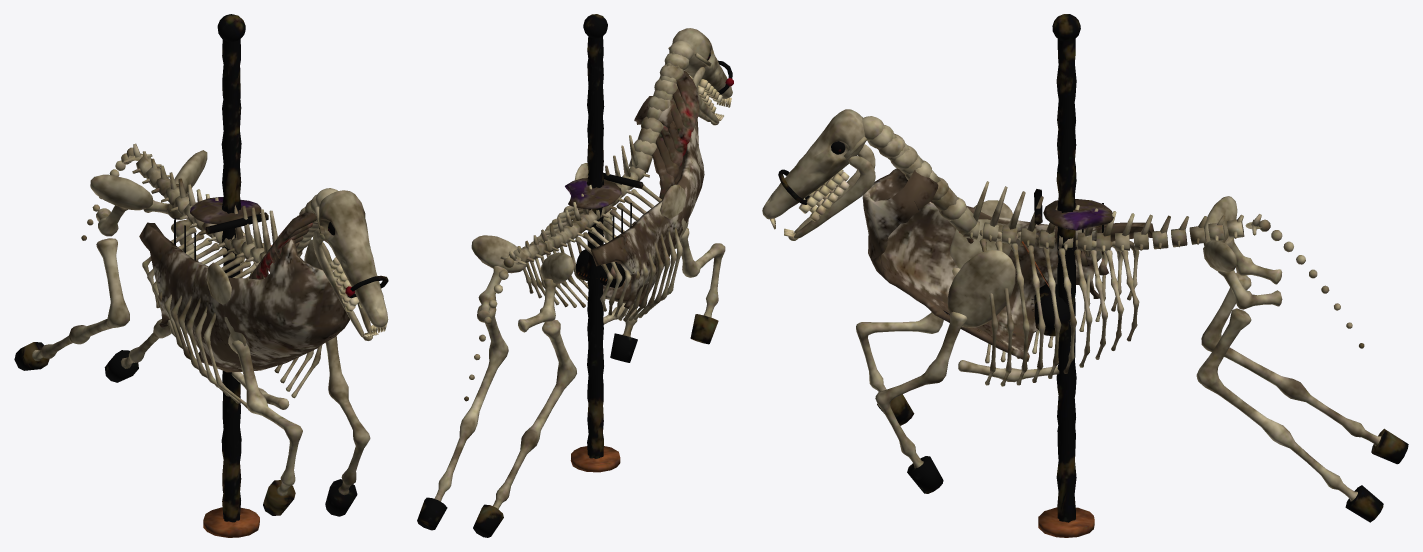
Rendered from horse.glb.
The picture shows the model from 3 angles, left to right: view 1: azimuth 30°, elevation 25°; view 2: azimuth 150°, elevation 25°; view 3: azimuth 270°, elevation 25°; orthographic projection. The views are drawn at different scales.
Visible parts, largest first — view 1: horse; view 2: horse; view 3: horse.
Boxes of the visible parts, <box> form: horse: <box>14,14,388,537</box>; horse: <box>417,14,733,537</box>; horse: <box>762,14,1408,537</box>.
Bounding box in the file's own units: 0.7467 × 2.79 × 3.2.
Materials: 1 (1 with a texture image).
